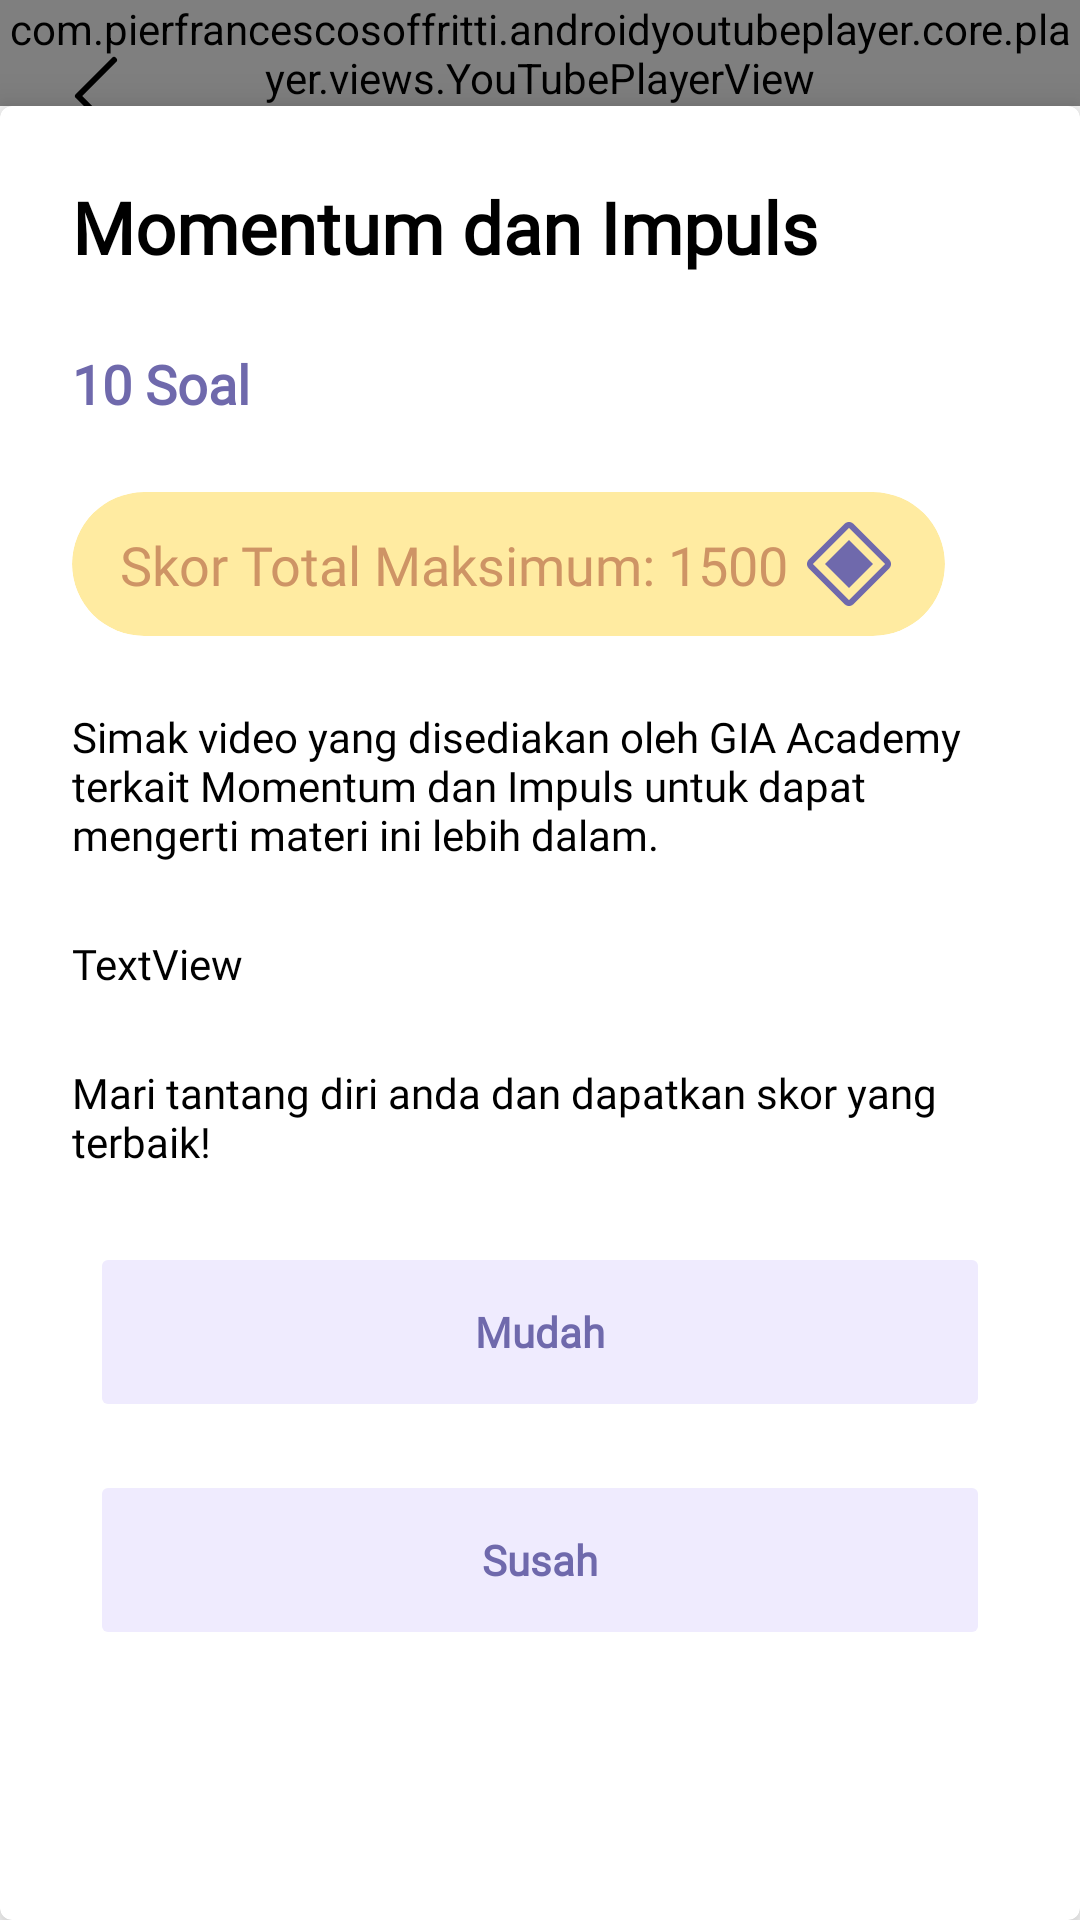

Screen size 1080w x 1920h. Icon name, then its box in pixels as (x1, y1, x2, y2):
carbon condition point: (807, 522, 891, 606)
